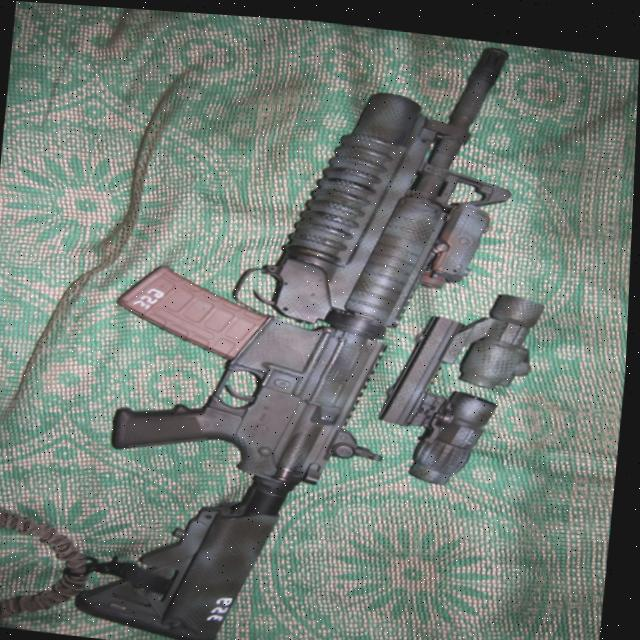firearm: (74, 5, 533, 640)
